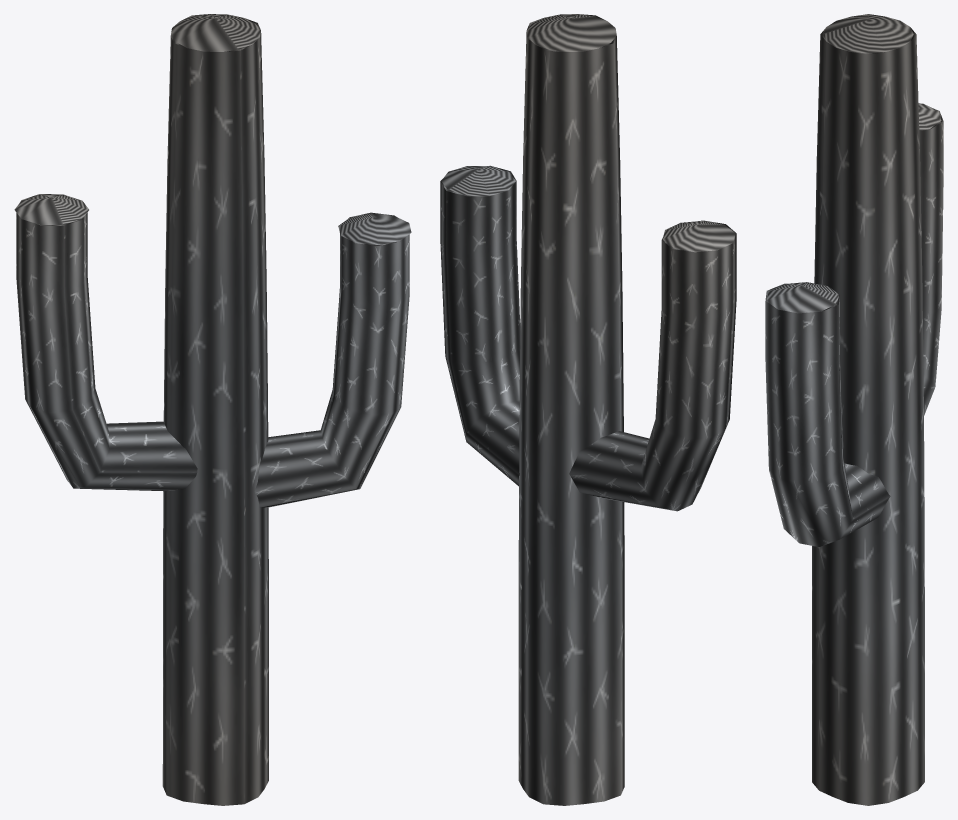
Rendered from cactus_col_l0.gltf.
3 views of the same model, side by side, from view 1: azimuth 30°, elevation 25°; view 2: azimuth 150°, elevation 25°; view 3: azimuth 270°, elevation 25° (orthographic).
Parts seen in each view (by area): view 1: cactus_col_l0; view 2: cactus_col_l0; view 3: cactus_col_l0.
Boxes of the visible parts, x1,y1,x2,y2 form: cactus_col_l0: [14, 14, 411, 805]; cactus_col_l0: [440, 14, 736, 805]; cactus_col_l0: [765, 14, 943, 805].
Bounding box in the file's own units: 1.59 × 3.47 × 0.7336.
Materials: 1 (1 with a texture image).
